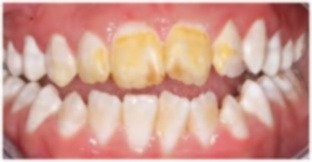Tooth Discoloration: (92, 25, 241, 89)
